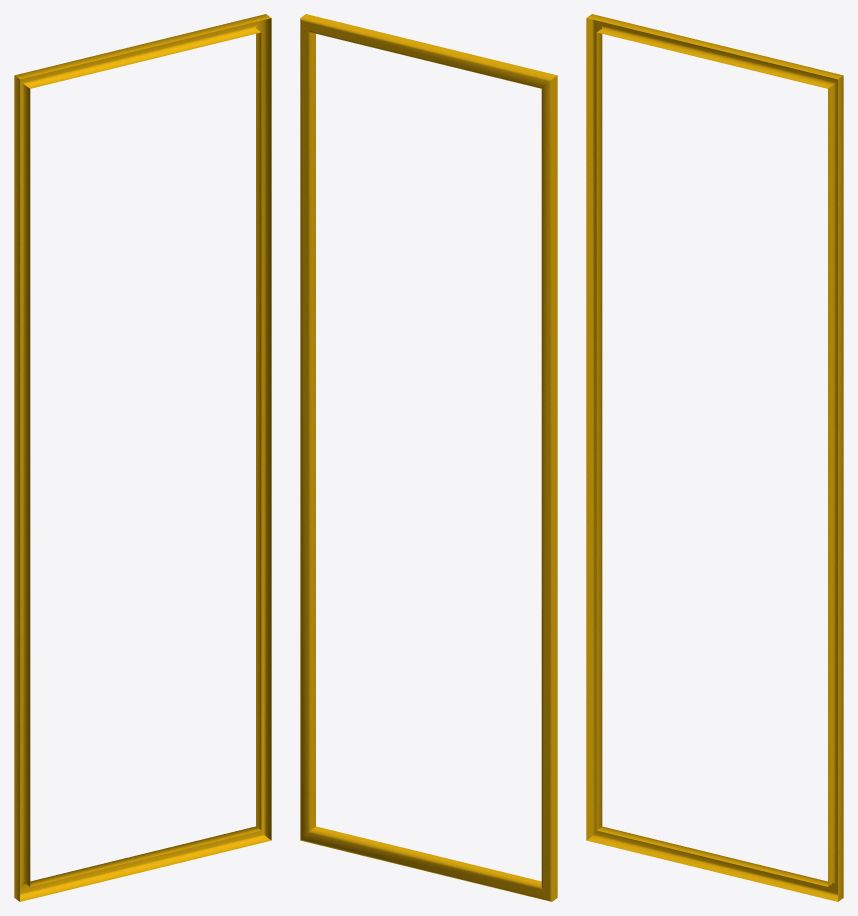
The model's file is ARC0510104.fbx.
3 renders of one model, left to right at view 1: azimuth 30°, elevation 25°; view 2: azimuth 150°, elevation 25°; view 3: azimuth 330°, elevation 25°, orthographic.
Parts seen in each view (by area): view 1: smARC0510104; view 2: smARC0510104; view 3: smARC0510104.
Boxes of the visible parts, bbox=[...] form: smARC0510104: bbox=[14, 14, 271, 901]; smARC0510104: bbox=[300, 14, 557, 901]; smARC0510104: bbox=[586, 14, 843, 901].
Bounding box in the file's own units: 176 × 549 × 7.5.
1 material, 1 textured.
